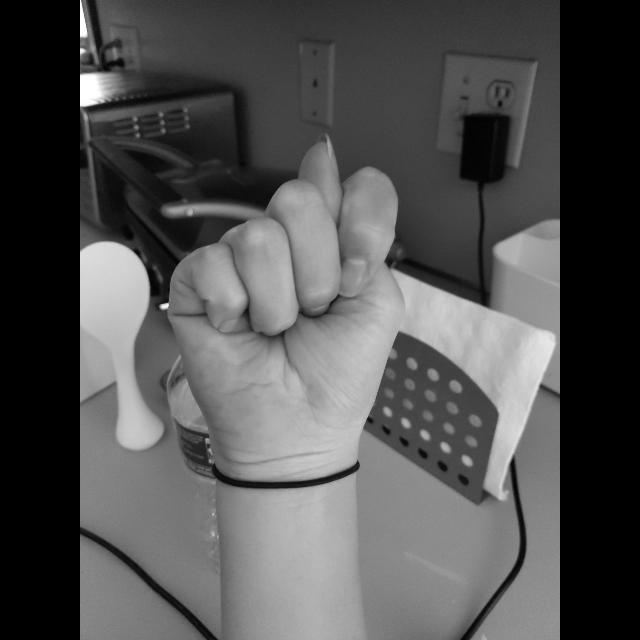T: (162, 128, 414, 476)
